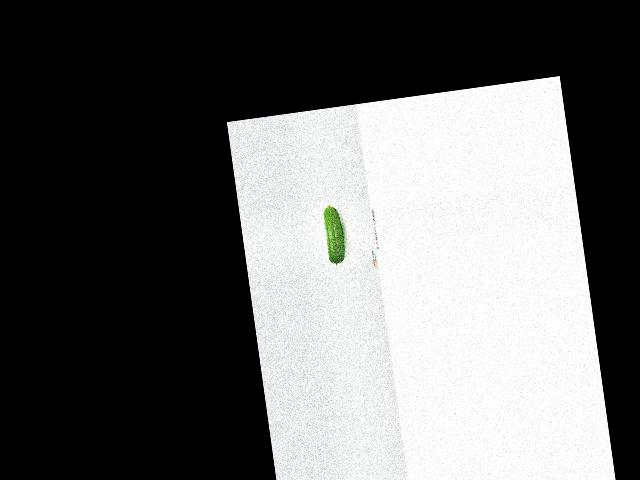cucumber: (321, 203, 347, 266)
